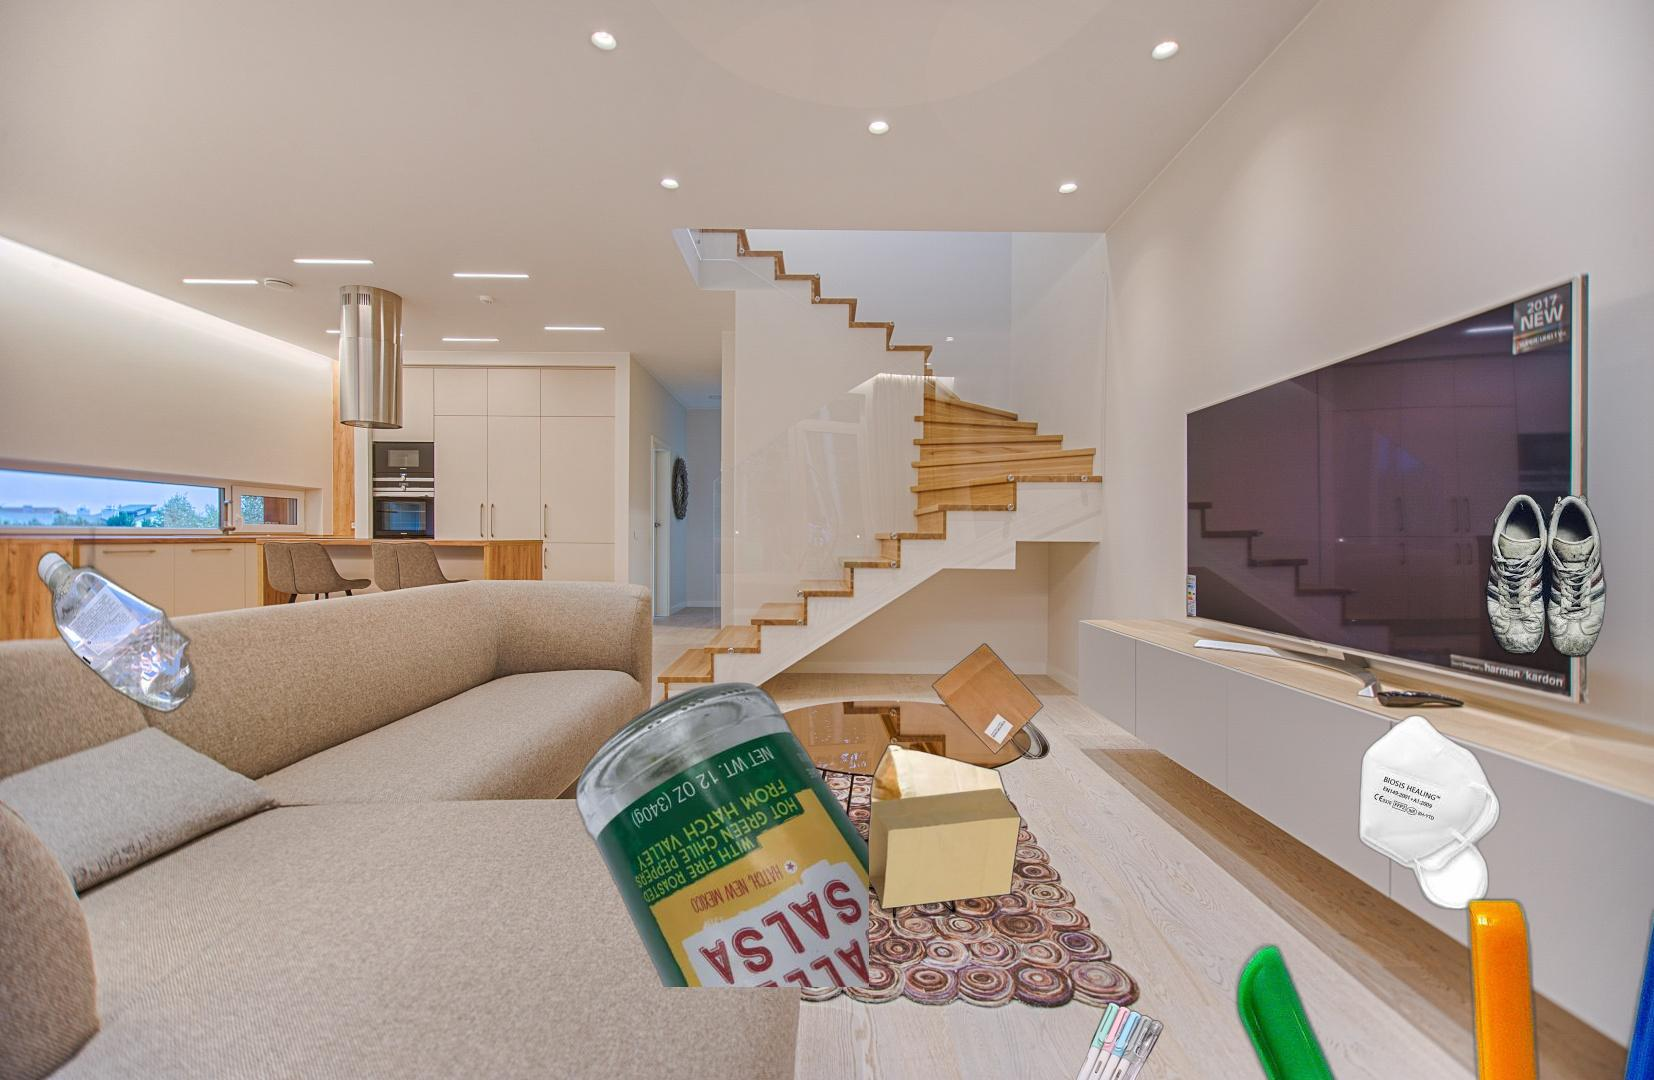glass: (571, 681, 869, 987)
paper-bag: (847, 641, 1052, 932)
penholder: (1227, 892, 1654, 1080), (1051, 1000, 1166, 1080)
plastic-bottles: (33, 527, 227, 1080)
shoes: (1482, 489, 1609, 661)
trash: (1356, 714, 1502, 912)
